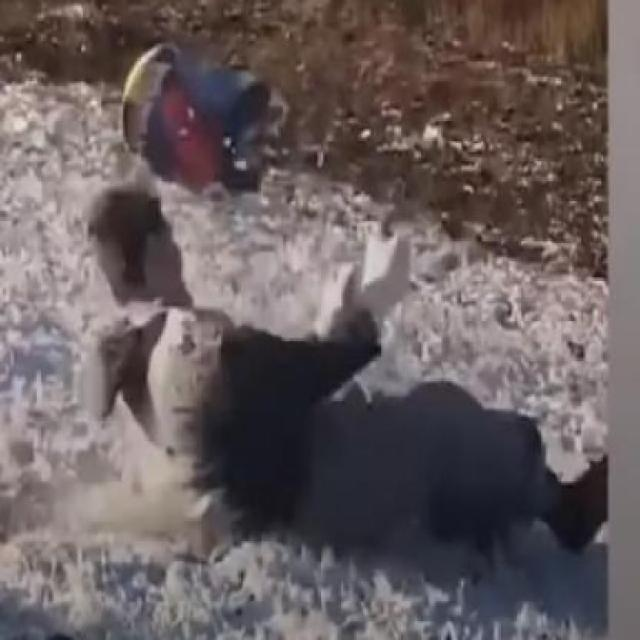fall: (95, 183, 610, 554)
